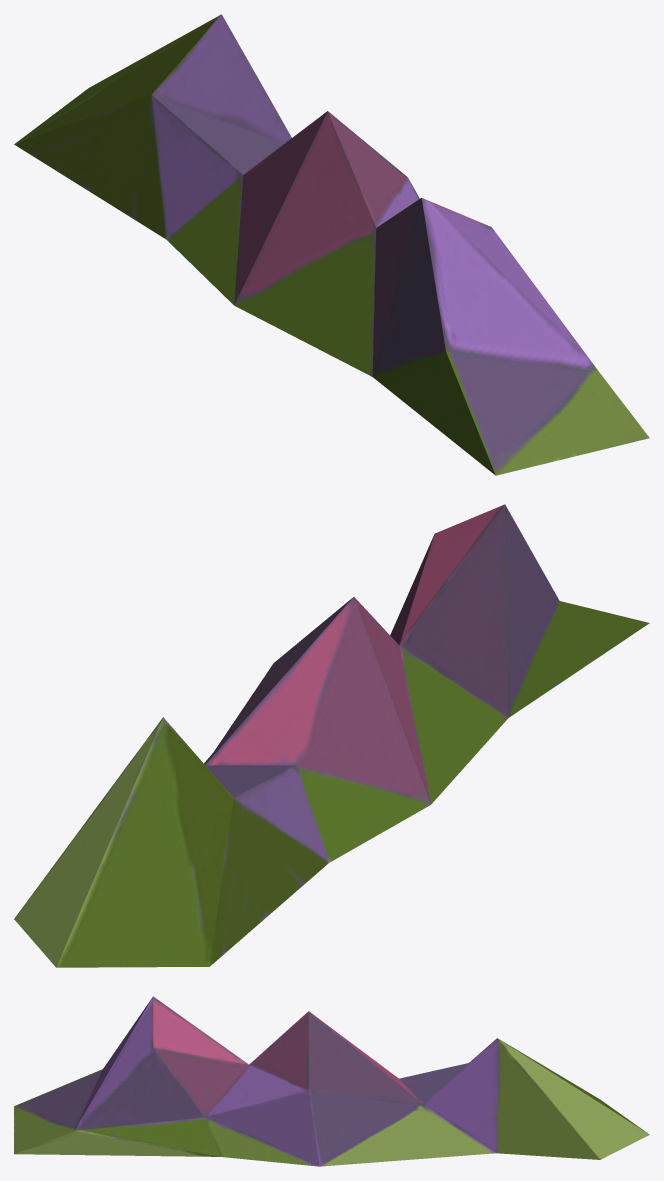
File: wall_straight_deco.fbx
The picture shows the model from 3 angles, top to bottom: view 1: azimuth 30°, elevation 25°; view 2: azimuth 150°, elevation 25°; view 3: azimuth 270°, elevation 25°; orthographic projection. The views are drawn at different scales.
Parts seen in each view (by area): view 1: wall_straight_deco; view 2: wall_straight_deco; view 3: wall_straight_deco.
Boxes of the visible parts, bbox=[...] form: wall_straight_deco: bbox=[14, 14, 649, 475]; wall_straight_deco: bbox=[14, 504, 649, 967]; wall_straight_deco: bbox=[14, 996, 649, 1166].
Bounding box in the file's own units: 0.01 × 0.00838 × 0.04.
